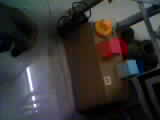duck: (90, 11, 115, 35)
